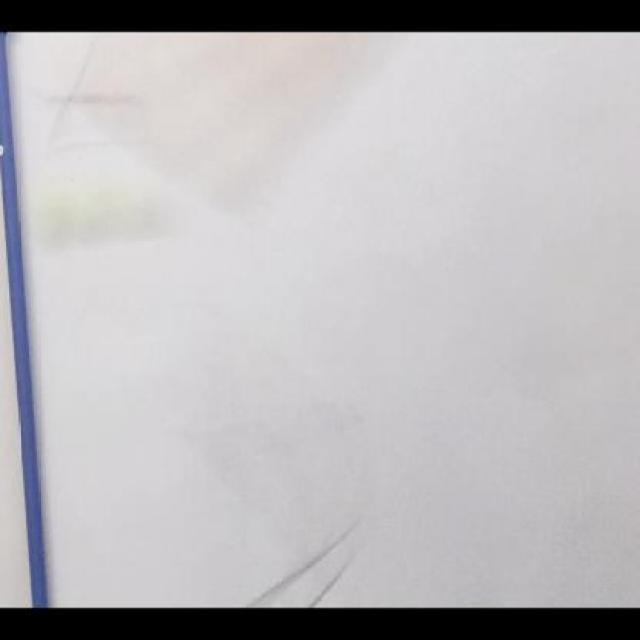baseball: (27, 199, 184, 207)
